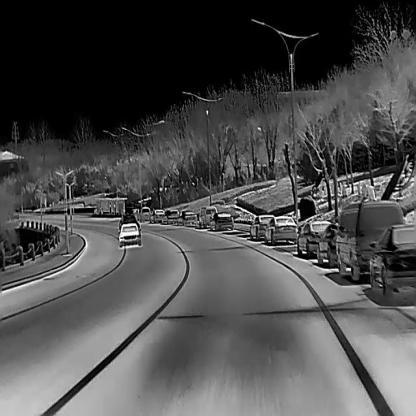car: (336, 201, 403, 278), (370, 223, 415, 295), (297, 220, 331, 254), (265, 216, 298, 243), (317, 223, 336, 265), (249, 214, 274, 239), (119, 223, 141, 246), (210, 211, 234, 230), (199, 206, 217, 227), (119, 215, 139, 231), (177, 210, 197, 224), (161, 209, 179, 223), (136, 207, 149, 221), (149, 209, 164, 221)
